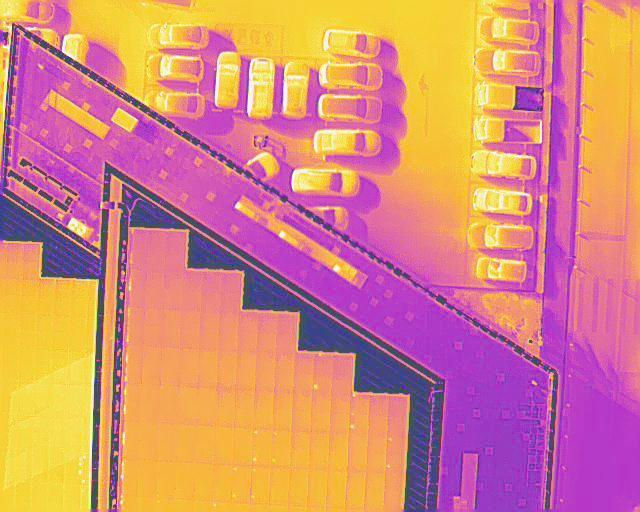Cell-Multi: (250, 466, 272, 504), (250, 428, 272, 466), (312, 354, 333, 391), (349, 395, 370, 431), (386, 432, 405, 470), (272, 430, 292, 466), (232, 464, 250, 502), (65, 455, 83, 485)
No-Anomaly: (141, 346, 163, 387), (238, 311, 259, 352), (310, 392, 332, 431), (200, 310, 221, 350), (219, 312, 240, 352), (257, 313, 278, 353), (201, 272, 222, 312), (165, 268, 185, 309), (138, 421, 158, 462), (365, 470, 386, 509), (234, 389, 255, 428), (275, 353, 297, 390), (178, 386, 198, 426), (273, 390, 293, 430), (330, 391, 350, 431), (146, 269, 165, 311), (199, 350, 220, 388), (197, 387, 218, 425), (215, 388, 236, 426), (292, 390, 311, 432), (270, 467, 291, 505), (161, 349, 182, 387), (146, 231, 167, 269), (181, 310, 201, 349), (254, 389, 274, 428), (346, 469, 366, 508), (308, 467, 328, 506), (164, 233, 186, 268), (331, 356, 353, 391), (139, 386, 161, 421), (196, 426, 216, 464), (384, 470, 404, 508), (289, 467, 309, 505), (368, 431, 387, 471), (232, 428, 252, 466), (277, 314, 297, 352), (256, 353, 277, 389), (309, 431, 330, 467), (157, 425, 178, 461), (164, 309, 183, 348), (196, 463, 215, 502), (160, 386, 179, 425), (222, 274, 242, 311), (327, 470, 347, 507), (214, 427, 234, 464), (183, 271, 201, 312), (349, 432, 368, 470), (176, 462, 195, 500), (177, 426, 197, 462), (237, 352, 257, 388), (127, 307, 146, 344), (294, 353, 313, 390), (330, 431, 349, 468), (35, 347, 54, 384), (145, 309, 164, 346), (53, 347, 71, 386), (220, 352, 240, 387), (369, 396, 389, 431), (19, 347, 37, 385), (182, 349, 200, 387), (139, 460, 158, 496), (214, 464, 232, 501), (158, 461, 176, 498), (291, 431, 310, 466), (388, 397, 407, 432), (131, 230, 148, 269), (6, 243, 24, 279), (22, 279, 40, 314), (72, 313, 89, 349), (23, 244, 40, 279), (5, 347, 21, 384), (70, 349, 86, 386), (55, 314, 72, 348), (39, 280, 56, 314), (56, 281, 73, 315), (73, 281, 90, 314), (5, 313, 21, 348), (6, 279, 22, 313), (22, 314, 38, 348), (39, 313, 54, 348), (63, 484, 80, 512), (49, 454, 64, 484), (31, 484, 47, 512)
Unclassified: (126, 345, 145, 384), (129, 270, 147, 307), (123, 384, 141, 420), (123, 420, 139, 459), (123, 460, 139, 496)
